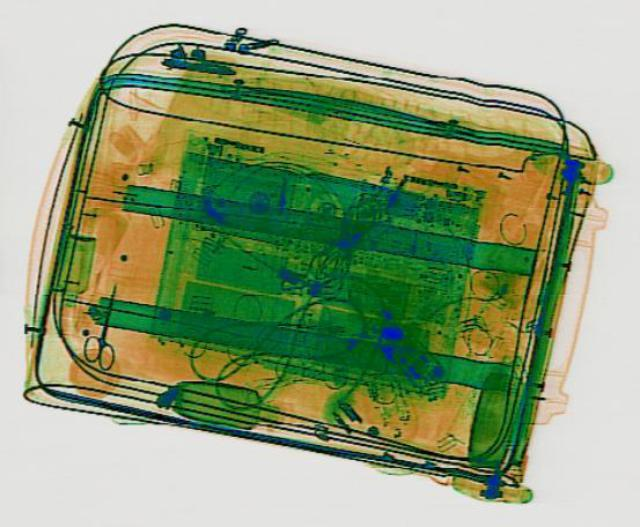Scissors: (75, 281, 133, 370)
